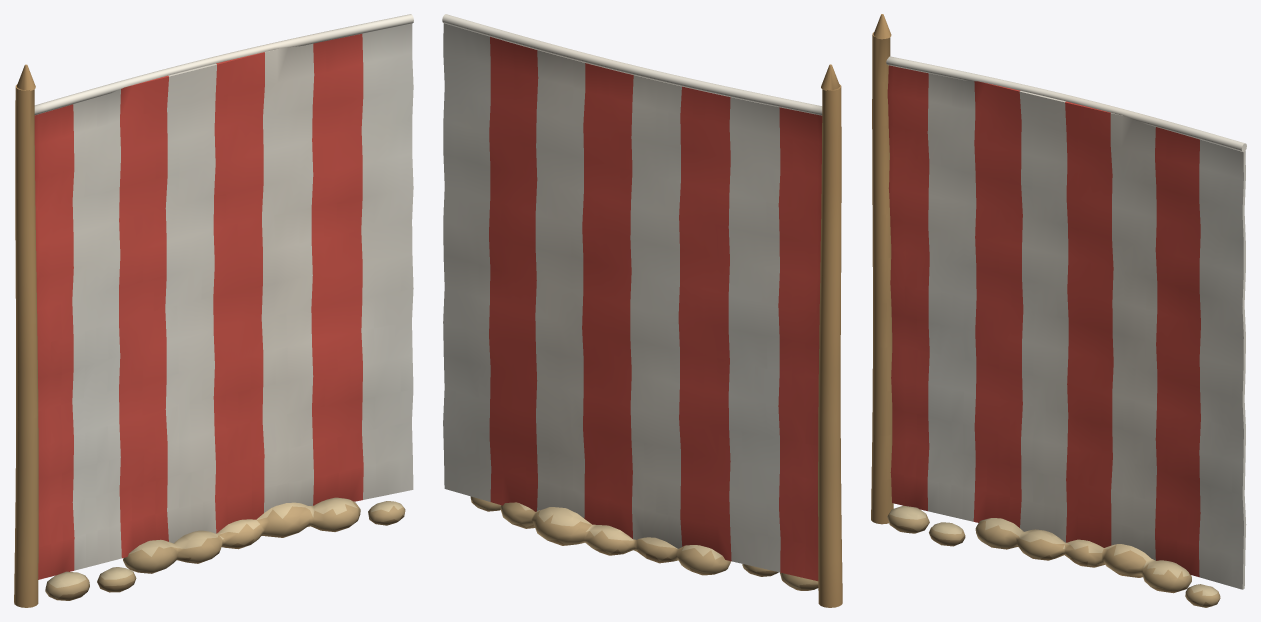
Rendered from shore_windbreak.glb.
The picture shows the model from 3 angles, left to right: view 1: azimuth 30°, elevation 25°; view 2: azimuth 150°, elevation 25°; view 3: azimuth 330°, elevation 25°; orthographic projection. The views are drawn at different scales.
Visible parts, largest first — view 1: shore_windbreak; view 2: shore_windbreak; view 3: shore_windbreak.
Part boxes in pixels (<box>): shore_windbreak: <box>14,14,413,607</box>; shore_windbreak: <box>442,14,842,607</box>; shore_windbreak: <box>871,14,1246,607</box>.
Bounding box in the file's own units: 20.55 × 26.66 × 3.27.
